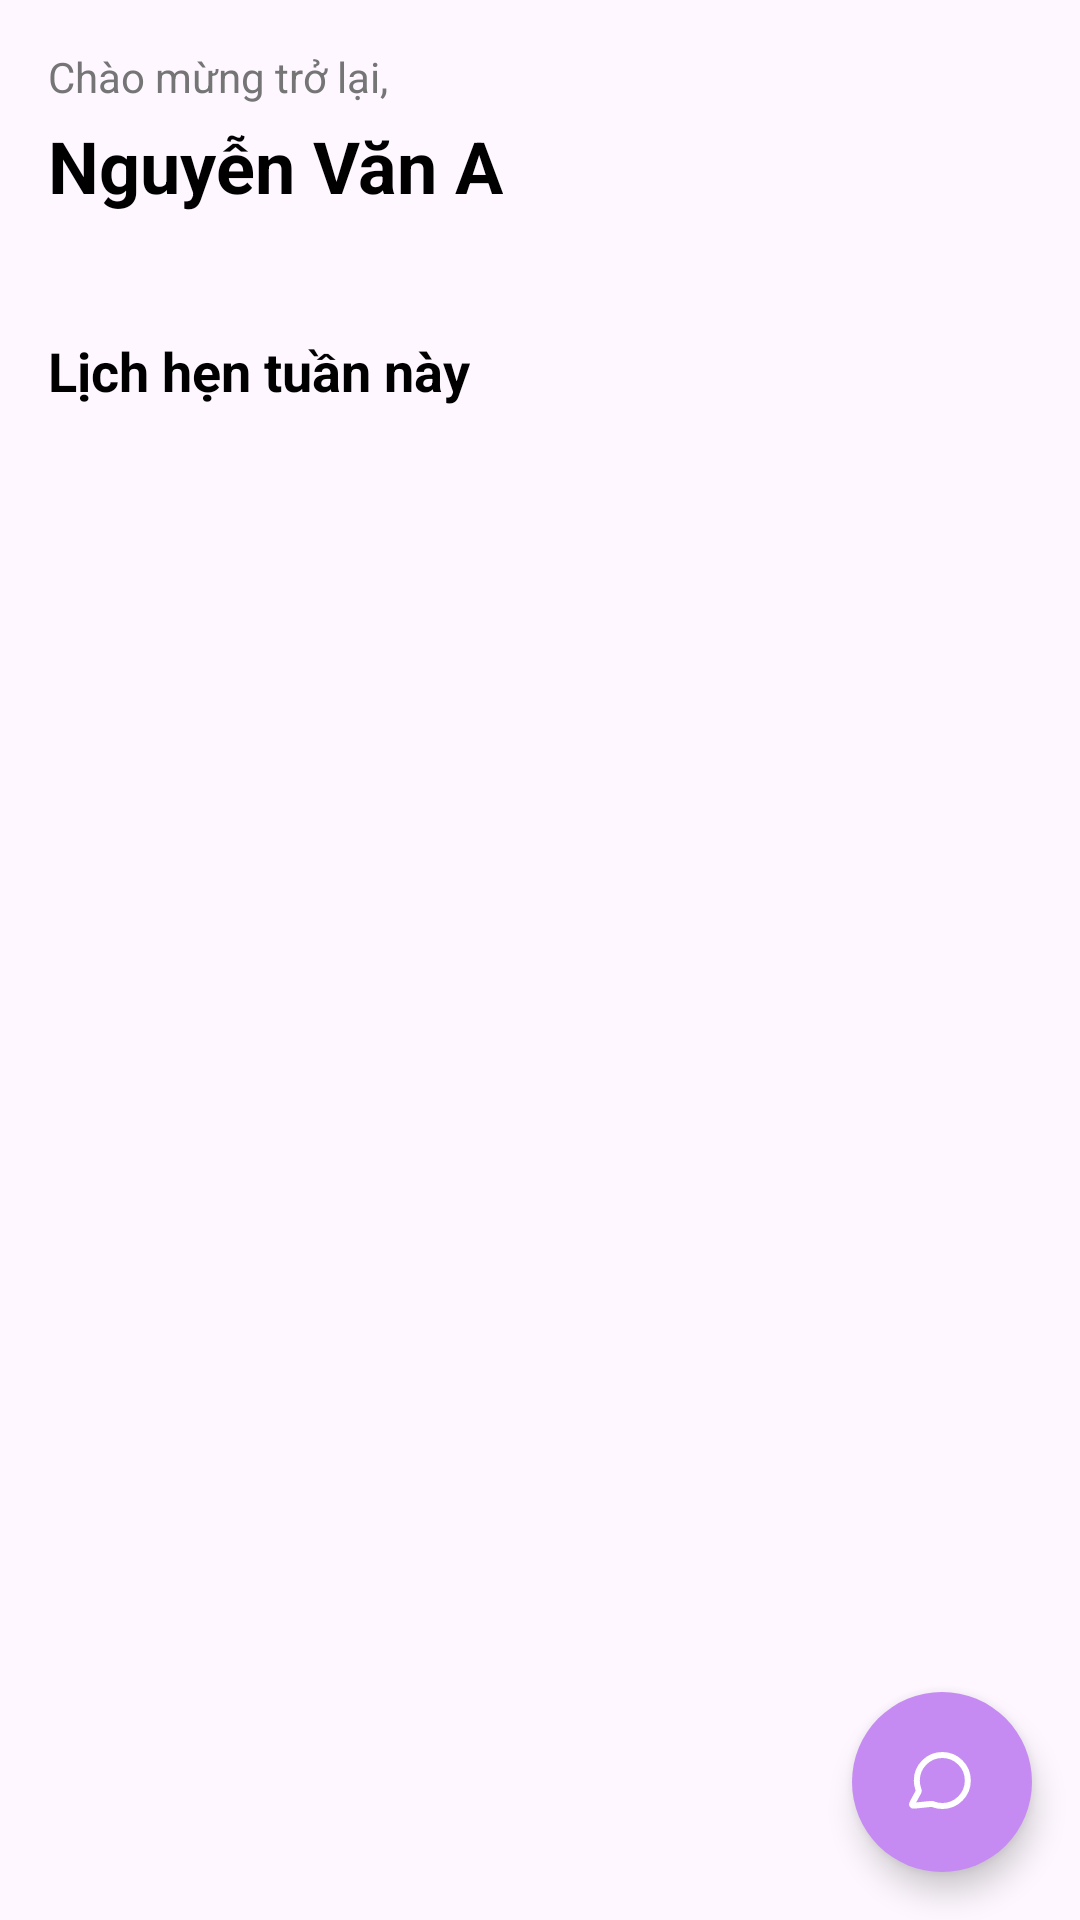

Named icons in this screenshot (1080px x 1920px) and their centers, (x,y):
chat: (942,1782)
